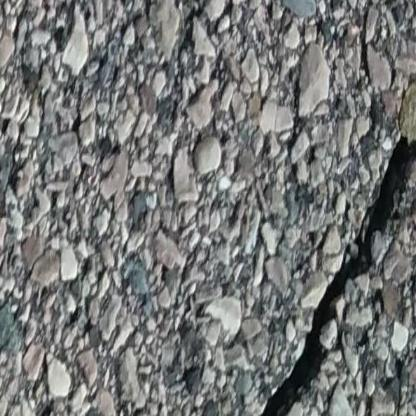Cracks: (239, 134, 416, 416)
